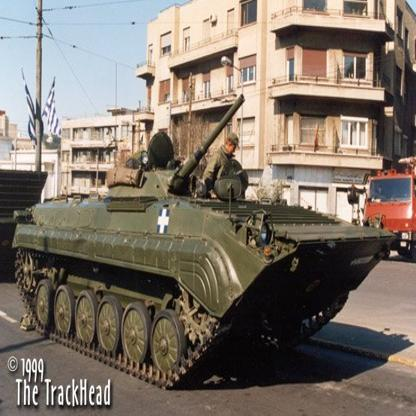Tank: (12, 120, 398, 398)
